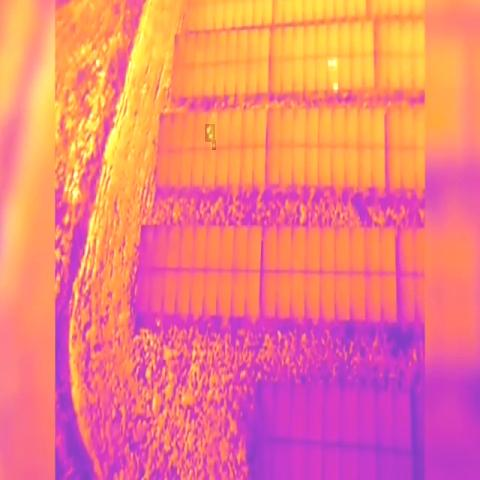fault: (205, 124, 215, 142), (327, 57, 337, 71), (333, 83, 338, 93), (212, 140, 216, 150)
